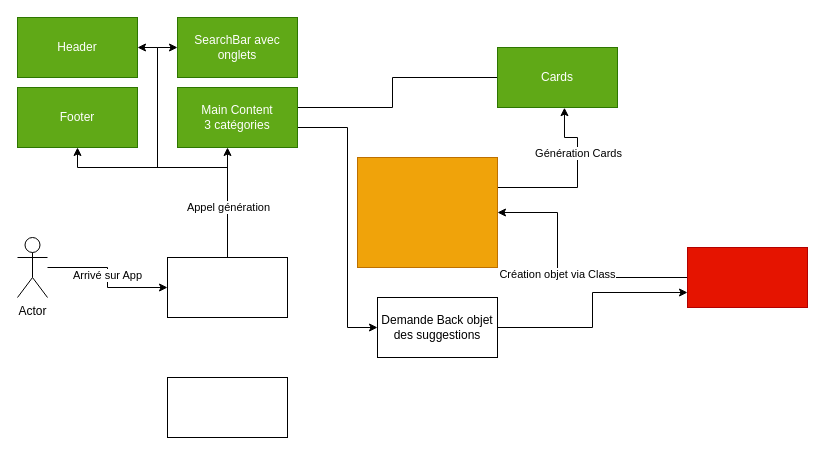
This 825x455 diagram has some shape labels left out. Here are the shapes that lost their labels. From the top down, the box of each, then its label:
(356, 156, 498, 268): Objet{ restaurant : 3 restaurants hôtel : 3 hôtels activité : 3 activité }
(166, 256, 288, 318): Affichage tampon
(686, 246, 808, 308): Backend
(166, 376, 288, 438): Affichage définitif
